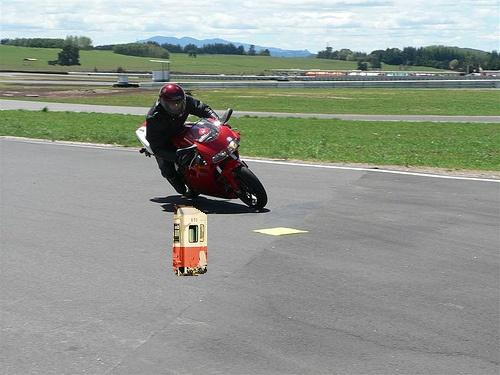tampered: (174, 205, 207, 276)
